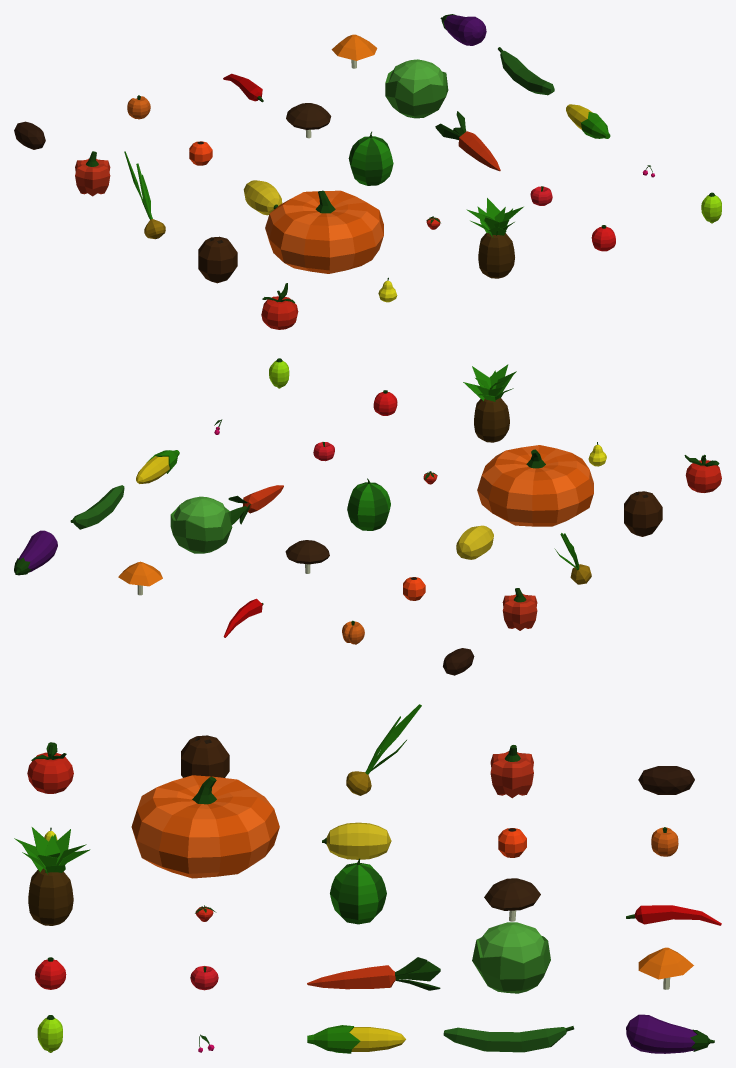
File: fruit+and+vegetables.fbx
3 renders of one model, top to bottom at view 1: azimuth 30°, elevation 25°; view 2: azimuth 150°, elevation 25°; view 3: azimuth 270°, elevation 25°, orthographic. The views are drawn at different scales.
Visible parts, largest first — view 1: Pumpkin_Sphere_014, Cabbage_Sphere_019, Pineapple_Plane_117, Watermelon_Sphere, Coconut_Sphere_009, Pepper_Cylinder_013, Carrot_Cylinder_008, Tomato_Sphere_004, Cucumber_Cylinder_007, Eggplant_Sphere_015, Mushroom2_Cylinder_021, Melon_Sphere_008 (+6 smaller); view 2: Pumpkin_Sphere_014, Cabbage_Sphere_019, Pineapple_Plane_117, Watermelon_Sphere, Coconut_Sphere_009, Eggplant_Sphere_015, Pepper_Cylinder_013, Tomato_Sphere_004, Melon_Sphere_008, Cucumber_Cylinder_007, Carrot_Cylinder_008, Mushroom2_Cylinder_021 (+5 smaller); view 3: Pumpkin_Sphere_014, Cabbage_Sphere_019, Pineapple_Plane_117, Watermelon_Sphere, Carrot_Cylinder_008, Eggplant_Sphere_015, Cucumber_Cylinder_007, Corn_Sphere_018, Melon_Sphere_008, Pepper_Cylinder_013, Coconut_Sphere_009, Tomato_Sphere_004 (+9 smaller).
Boxes of the visible parts, x1,y1,x2,y2 form: Pumpkin_Sphere_014: [265, 190, 383, 273]; Cabbage_Sphere_019: [385, 59, 448, 118]; Pineapple_Plane_117: [466, 198, 523, 278]; Watermelon_Sphere: [348, 131, 393, 185]; Coconut_Sphere_009: [198, 236, 237, 283]; Pepper_Cylinder_013: [75, 151, 110, 196]; Carrot_Cylinder_008: [435, 111, 500, 171]; Tomato_Sphere_004: [261, 283, 298, 329]; Cucumber_Cylinder_007: [498, 47, 554, 95]; Eggplant_Sphere_015: [440, 14, 486, 45]; Mushroom2_Cylinder_021: [286, 103, 331, 138]; Melon_Sphere_008: [243, 180, 282, 215]; Pumpkin_Sphere_014: [477, 445, 593, 526]; Cabbage_Sphere_019: [170, 496, 232, 553]; Pineapple_Plane_117: [463, 364, 516, 442]; Watermelon_Sphere: [347, 478, 390, 530]; Coconut_Sphere_009: [624, 491, 662, 536]; Eggplant_Sphere_015: [14, 530, 57, 575]; Pepper_Cylinder_013: [502, 588, 537, 630]; Tomato_Sphere_004: [684, 454, 721, 492]; Melon_Sphere_008: [456, 525, 493, 559]; Cucumber_Cylinder_007: [70, 485, 124, 529]; Carrot_Cylinder_008: [228, 485, 283, 524]; Mushroom2_Cylinder_021: [285, 540, 329, 573]; Pumpkin_Sphere_014: [131, 775, 279, 878]; Cabbage_Sphere_019: [472, 922, 550, 993]; Pineapple_Plane_117: [14, 827, 90, 925]; Watermelon_Sphere: [330, 858, 386, 924]; Carrot_Cylinder_008: [307, 957, 440, 990]; Eggplant_Sphere_015: [626, 1014, 714, 1053]; Cucumber_Cylinder_007: [443, 1026, 574, 1052]; Corn_Sphere_018: [307, 1025, 405, 1053]; Melon_Sphere_008: [322, 822, 391, 859]; Pepper_Cylinder_013: [490, 745, 533, 798]; Coconut_Sphere_009: [181, 735, 229, 777]; Tomato_Sphere_004: [27, 742, 73, 793].
Bounding box in the file's own units: 42.81 × 6.36 × 46.01.
1 material, 1 textured.
